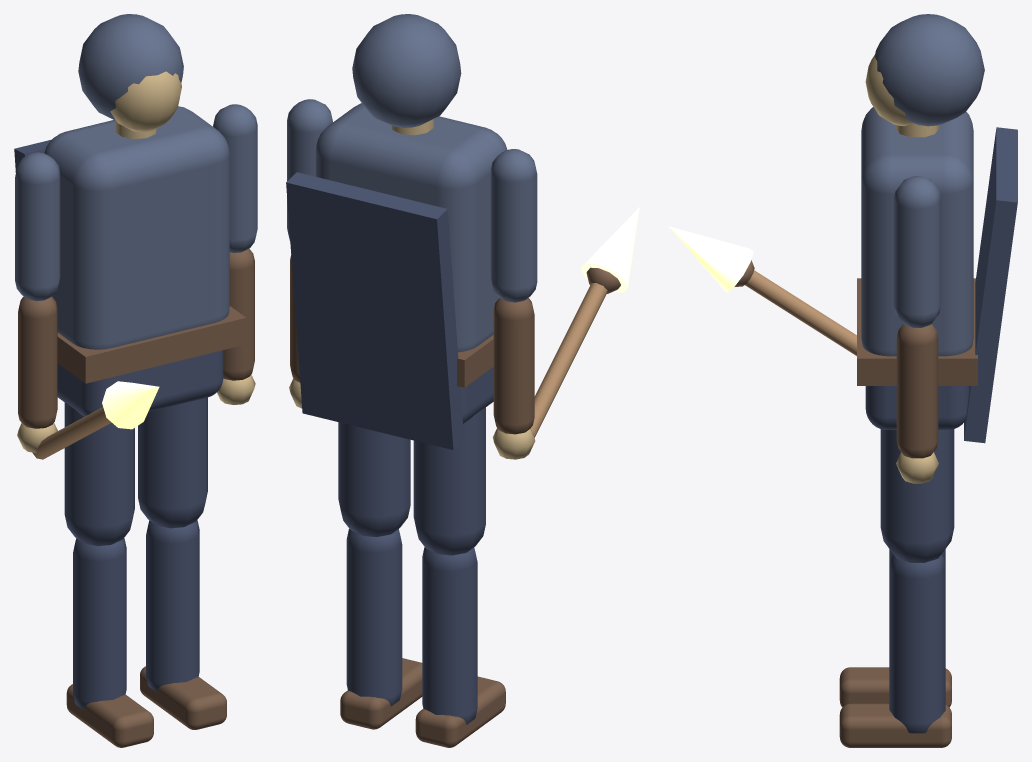
File: warden.glb
The picture shows the model from 3 angles, left to right: view 1: azimuth 30°, elevation 25°; view 2: azimuth 150°, elevation 25°; view 3: azimuth 270°, elevation 25°; orthographic projection. The views are drawn at different scales.
Visible parts, largest first — view 1: mesh; view 2: mesh; view 3: mesh.
Part boxes in pixels (x1,y1,x2,y2): mesh: (14,14,257,747); mesh: (286,14,639,747); mesh: (668,14,1017,747).
Bounding box in the file's own units: 0.6494 × 1.8 × 0.8105.
